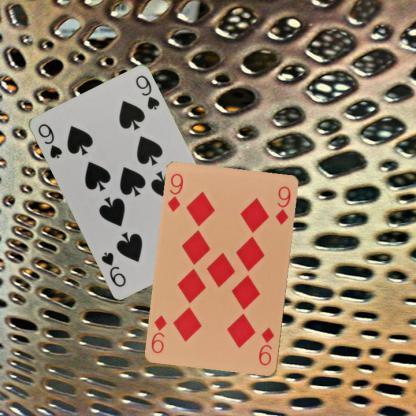9d: (256, 325, 276, 367), (165, 171, 185, 213)
9s: (35, 121, 63, 160)
